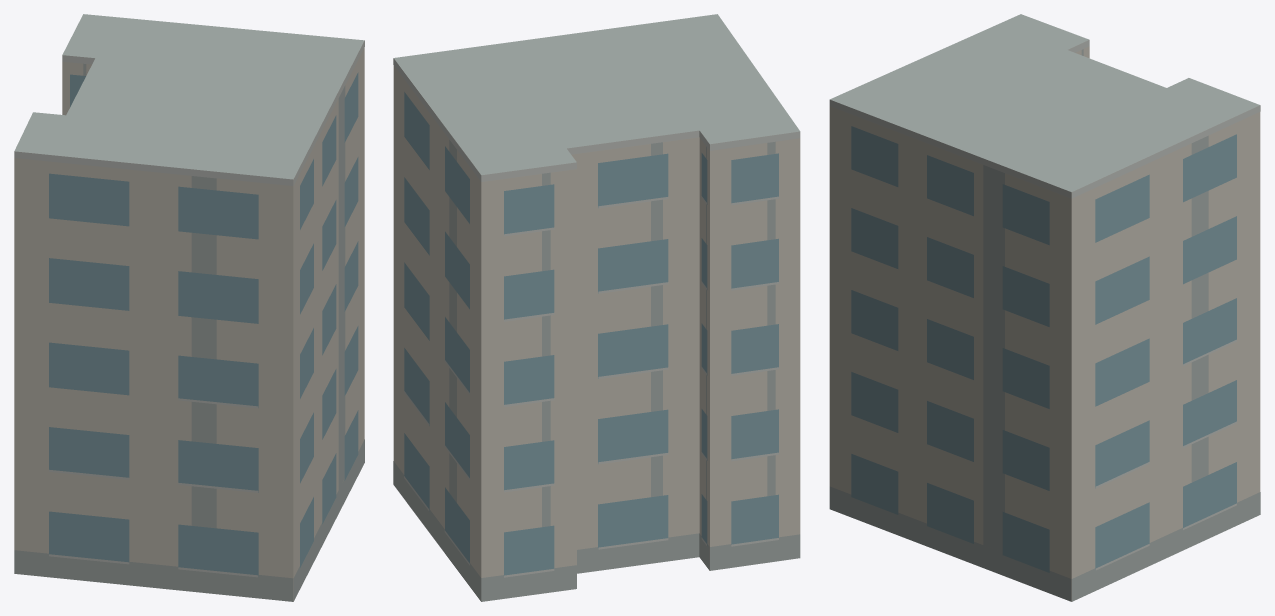
Rendered from survey-upis-32938431.glb.
3 renders of one model, left to right at view 1: azimuth 30°, elevation 25°; view 2: azimuth 150°, elevation 25°; view 3: azimuth 270°, elevation 25°, orthographic. The views are drawn at different scales.
Parts seen in each view (by area): view 1: survey-upis-32938431.tmp; view 2: survey-upis-32938431.tmp; view 3: survey-upis-32938431.tmp.
Boxes of the visible parts, bbox=[...] form: survey-upis-32938431.tmp: bbox=[14, 14, 364, 601]; survey-upis-32938431.tmp: bbox=[393, 14, 800, 601]; survey-upis-32938431.tmp: bbox=[829, 14, 1260, 601].
Size of the model in its own units: 14.38 by 15.4 by 14.69.
